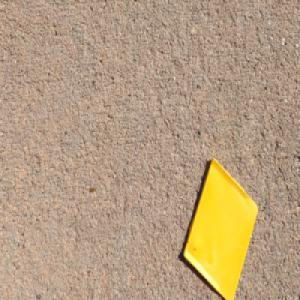PlasticPart: (181, 155, 259, 300)
